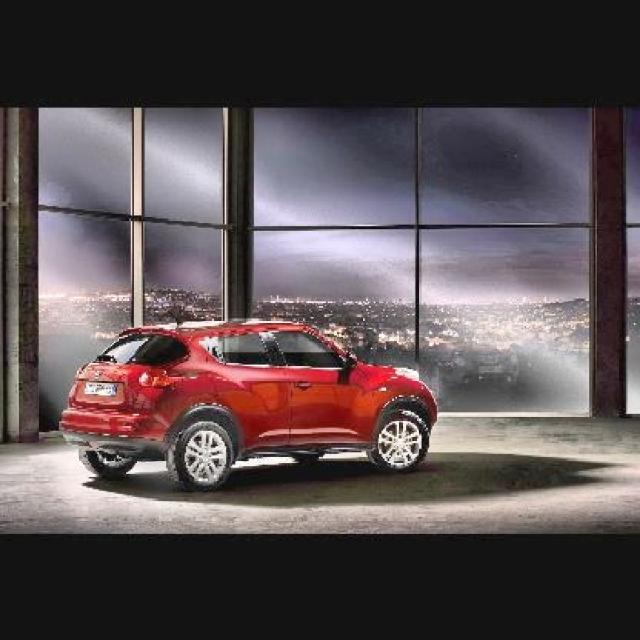red: (57, 317, 435, 494)
